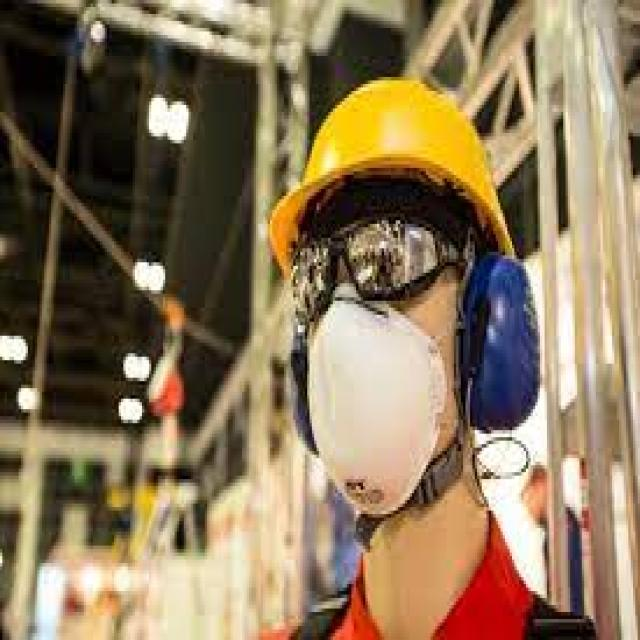glasses: (286, 205, 476, 305)
